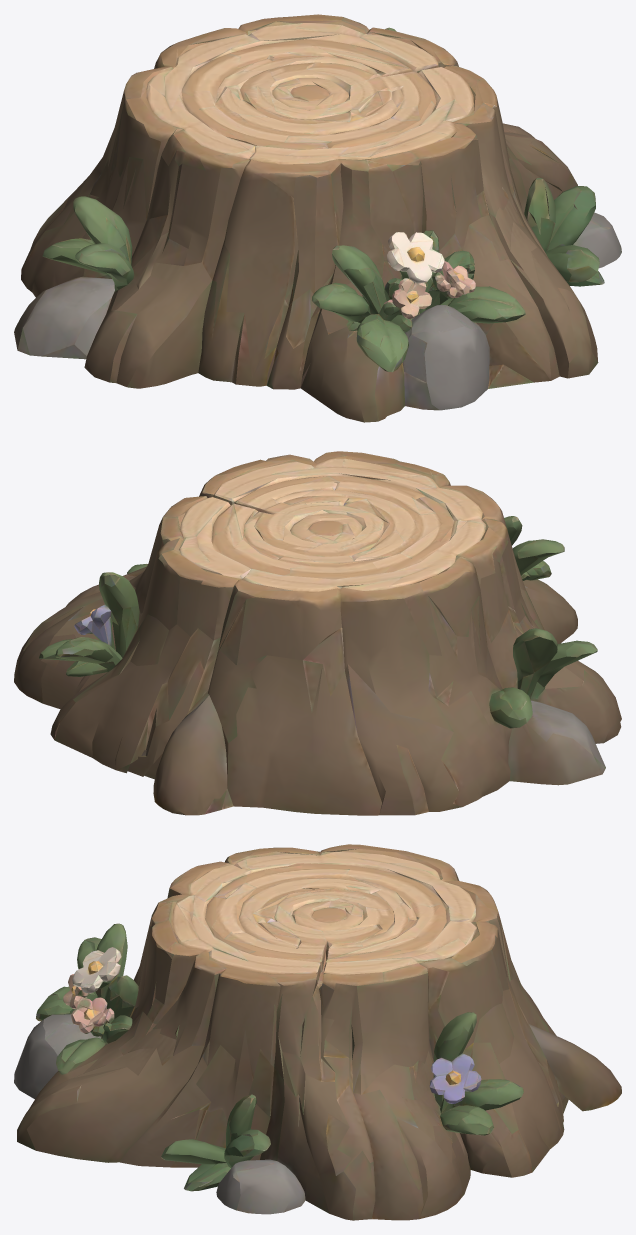
Rendered from treeStump.glb.
The picture shows the model from 3 angles, top to bottom: view 1: azimuth 30°, elevation 25°; view 2: azimuth 150°, elevation 25°; view 3: azimuth 270°, elevation 25°; orthographic projection. The views are drawn at different scales.
Visible parts, largest first — view 1: Mesh_0; view 2: Mesh_0; view 3: Mesh_0.
Boxes of the visible parts, left/top/right/bottom form: Mesh_0: left=14, top=14, right=621, bottom=422; Mesh_0: left=14, top=451, right=621, bottom=815; Mesh_0: left=14, top=844, right=621, bottom=1220.
Bounding box in the file's own units: 1.2 × 0.377 × 1.17.
Materials: 1 (1 with a texture image).
